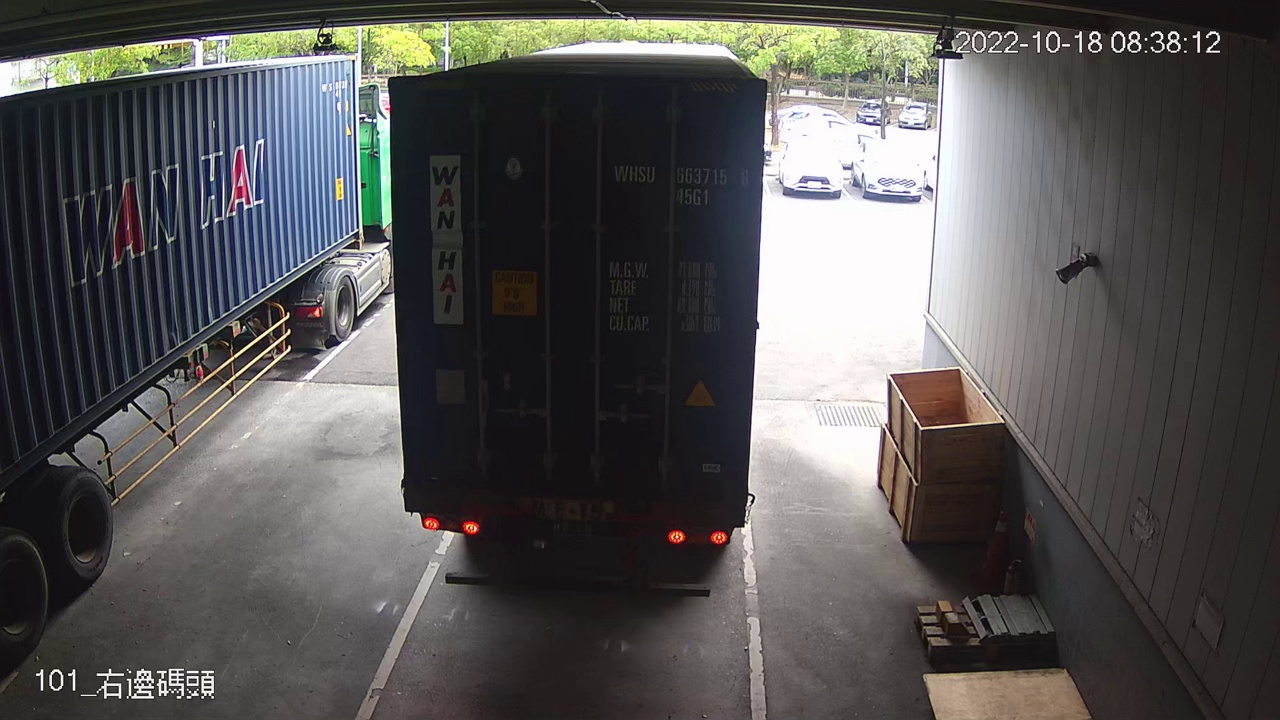container: (610, 156, 755, 213)
